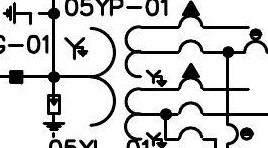115_gs: (1, 1, 42, 26)
115_la: (41, 94, 66, 139)
